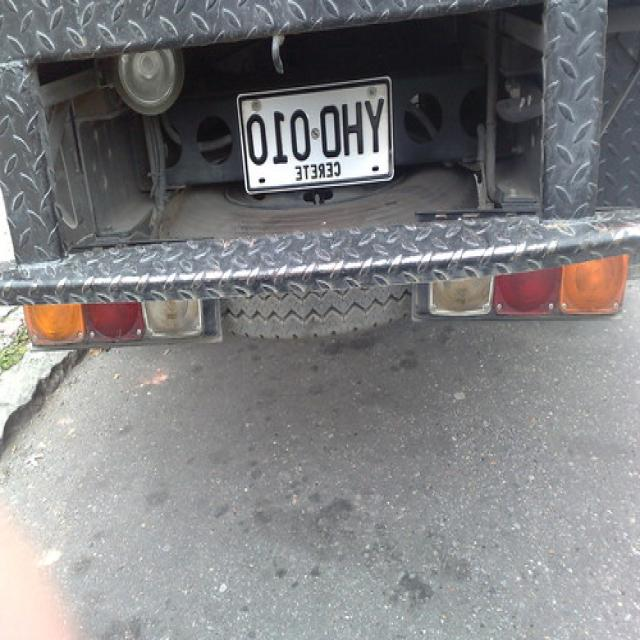placas: (242, 91, 386, 170)
